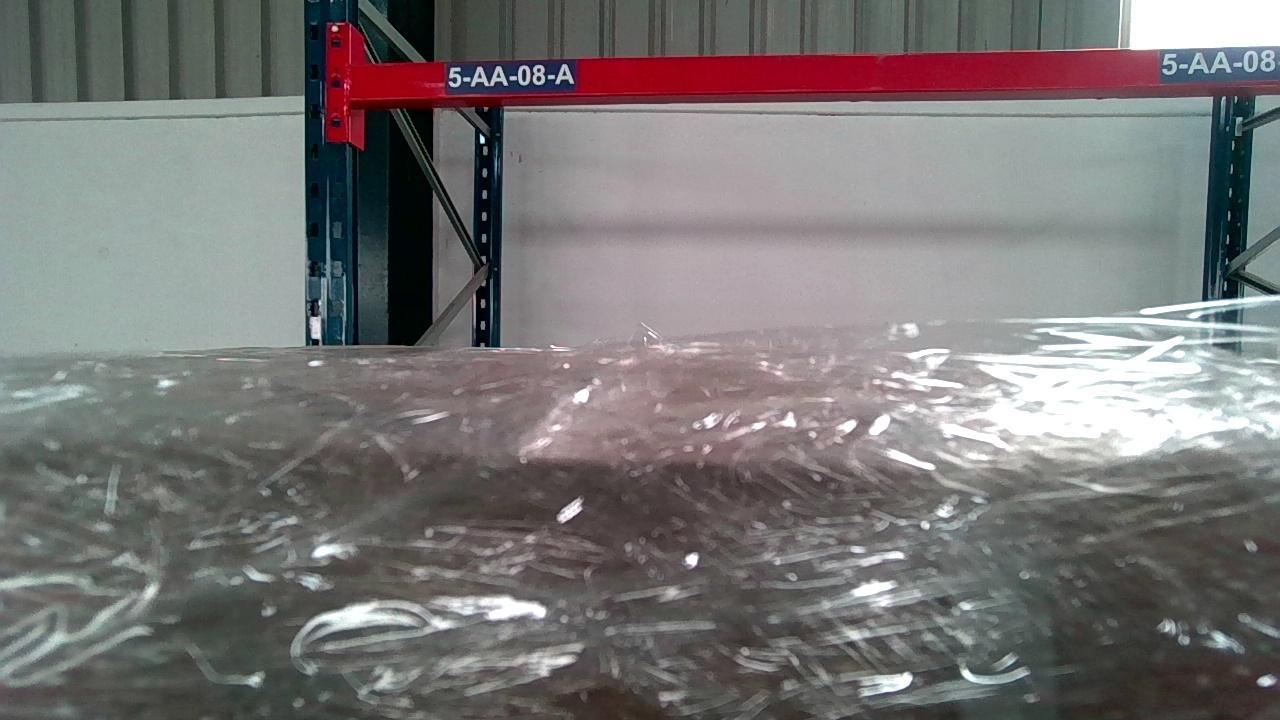h_rack: (354, 47, 1277, 105)
